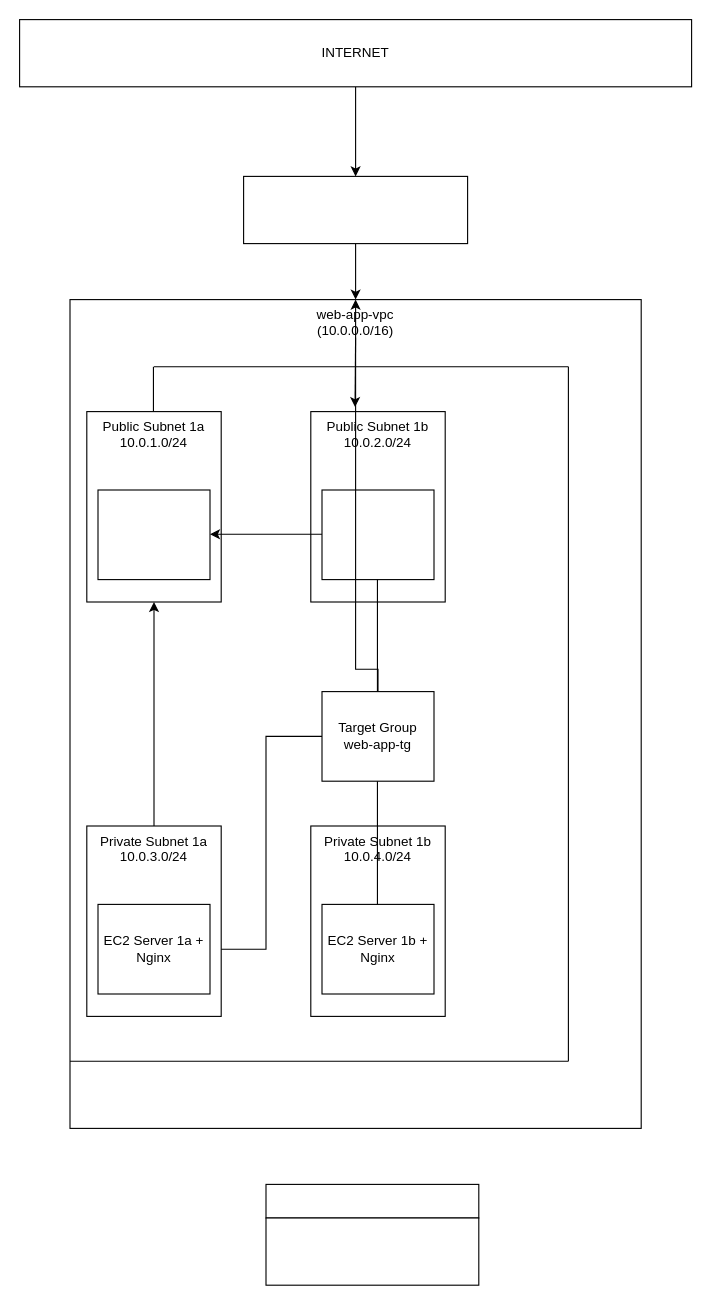
Image size: 711x1305. Some labels were removed from this diagram. The shapes that lost their labels are listed below. From the top down, each one's centre as x and y in pixels, then its label:
At point 355,209: "Internet Gateway web-app-igw".
At point 153,534: "NAT Gateway nat-gw-1a".
At point 377,534: "Application Load Balancer web-app-alb".
At point 372,1200: "Security Gropus".
At point 372,1251: "web-app-alb-sg web-app-ec2-sg".
